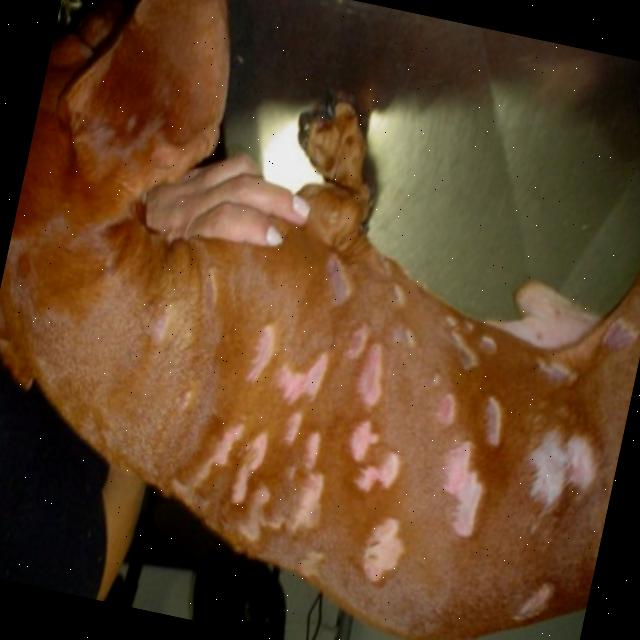cat-hairloss: (183, 276, 611, 604)
